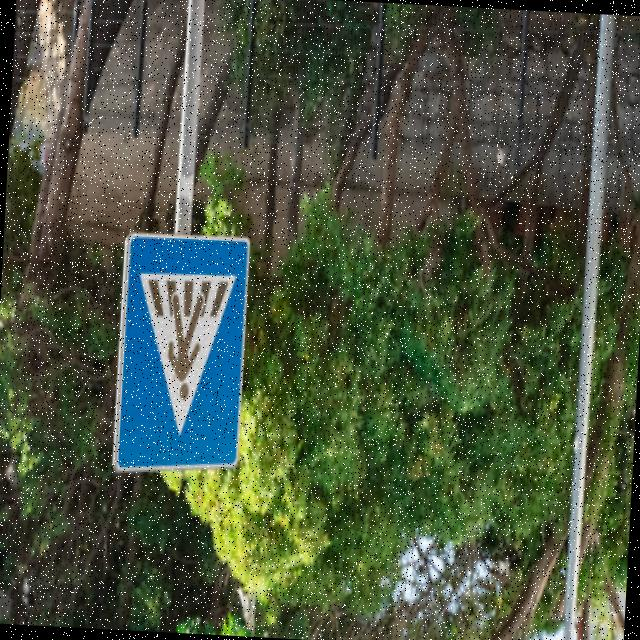crosswalk: (97, 216, 274, 511)
